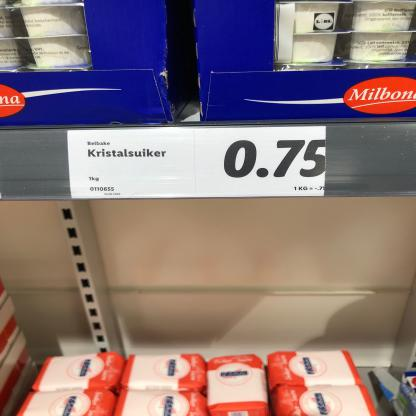prtg: (68, 128, 327, 200)
